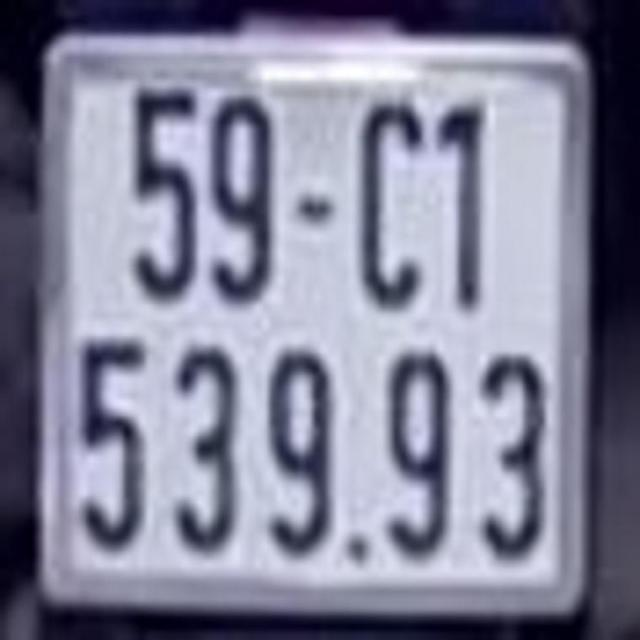1: (436, 102, 486, 308)
3: (168, 345, 236, 554), (479, 347, 542, 552)
5: (78, 338, 150, 552), (131, 87, 199, 296)
9: (209, 94, 272, 300), (268, 348, 326, 552), (388, 350, 447, 550)
C: (357, 109, 424, 308)
